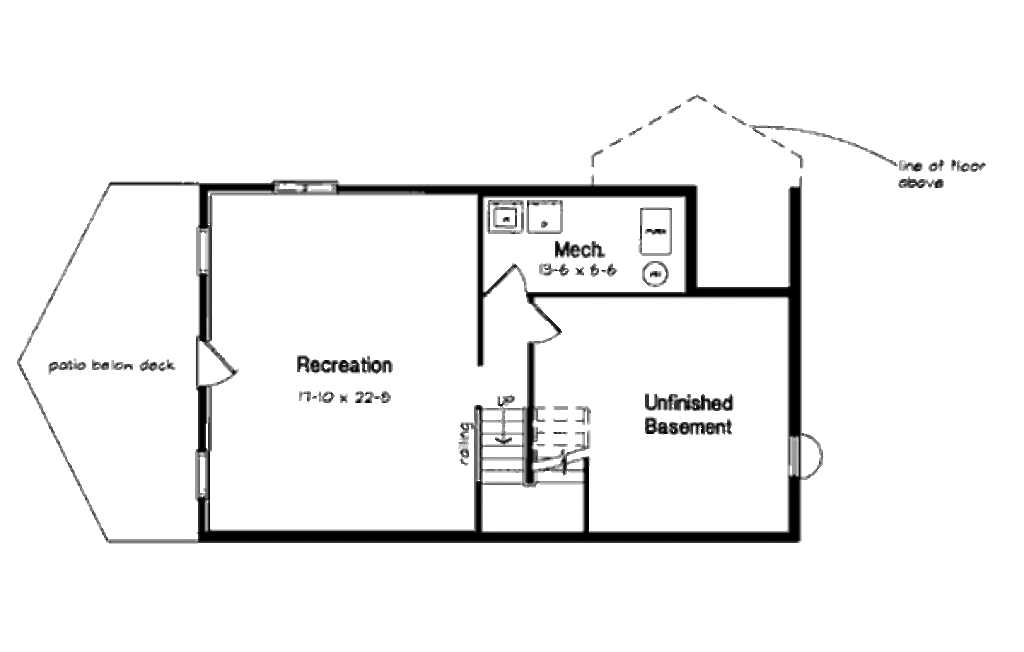door: (192, 330, 246, 390), (521, 299, 563, 349), (483, 263, 528, 300)
stairs: (473, 403, 588, 490)
window: (192, 222, 222, 279), (264, 177, 338, 196), (192, 447, 212, 497)
